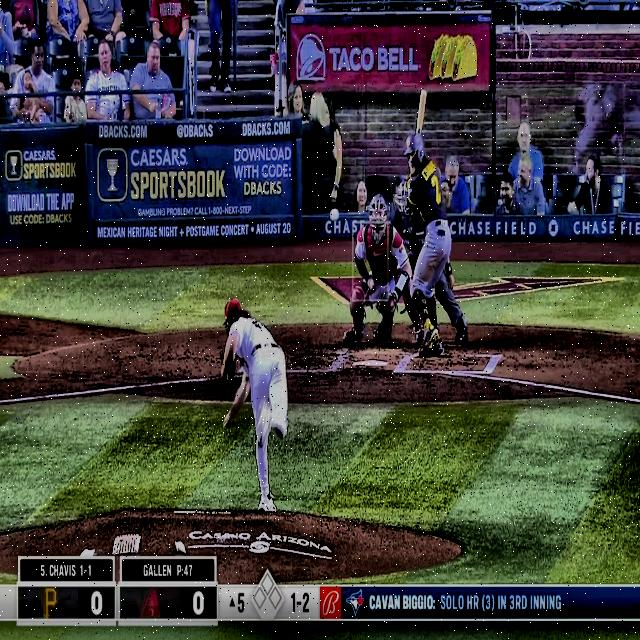baseball: (330, 209, 339, 221)
